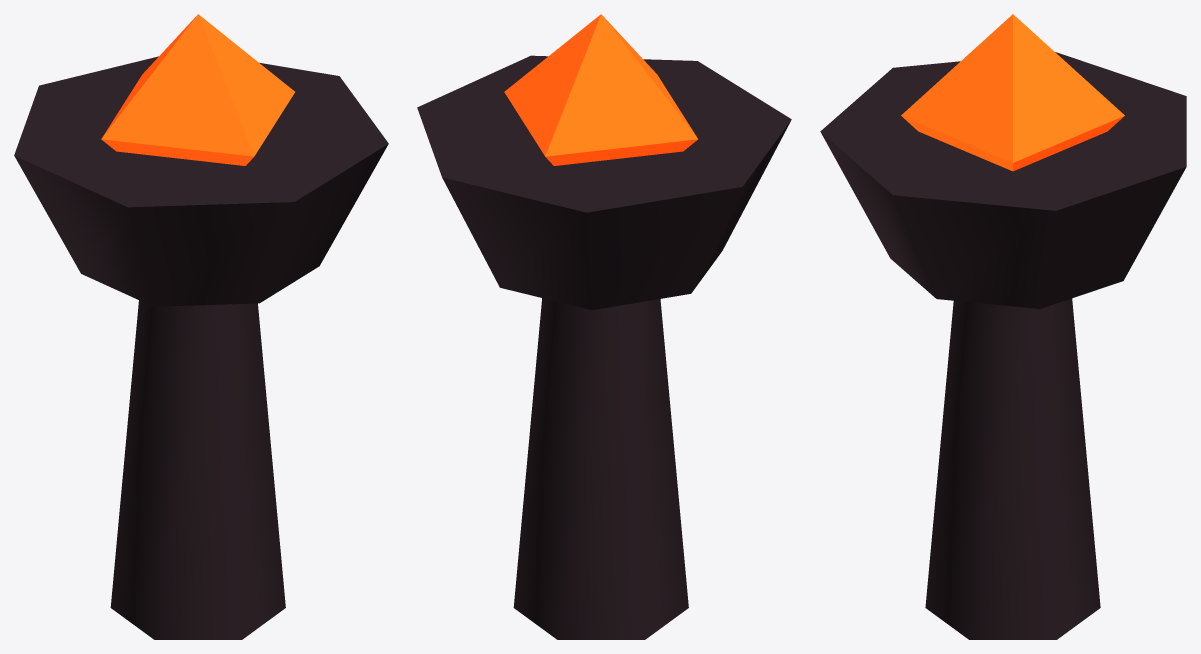
Rendered from fire_brazier.glb.
3 views of the same model, side by side, from view 1: azimuth 30°, elevation 25°; view 2: azimuth 150°, elevation 25°; view 3: azimuth 270°, elevation 25° (orthographic).
Size of the model in its own units: 1.07 by 1.87 by 1.05.
